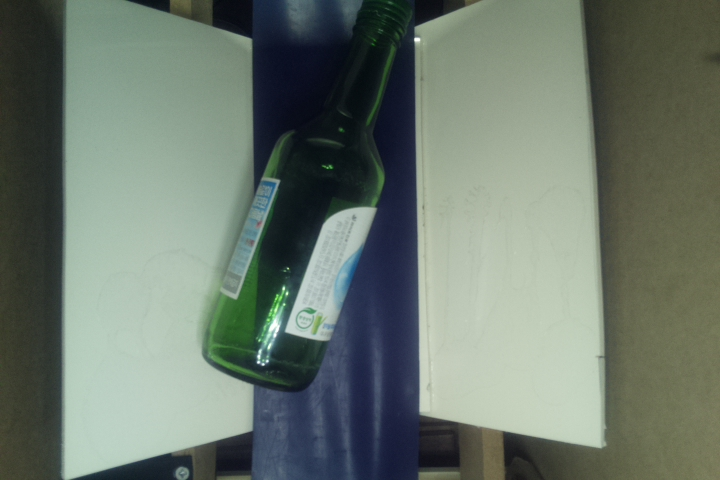soju: (201, 1, 418, 390)
